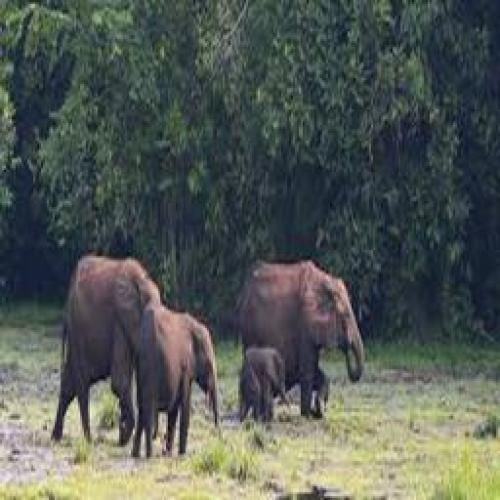african_elephant-endangered: (56, 253, 168, 459), (236, 258, 367, 424), (151, 299, 224, 458), (237, 345, 294, 430)
